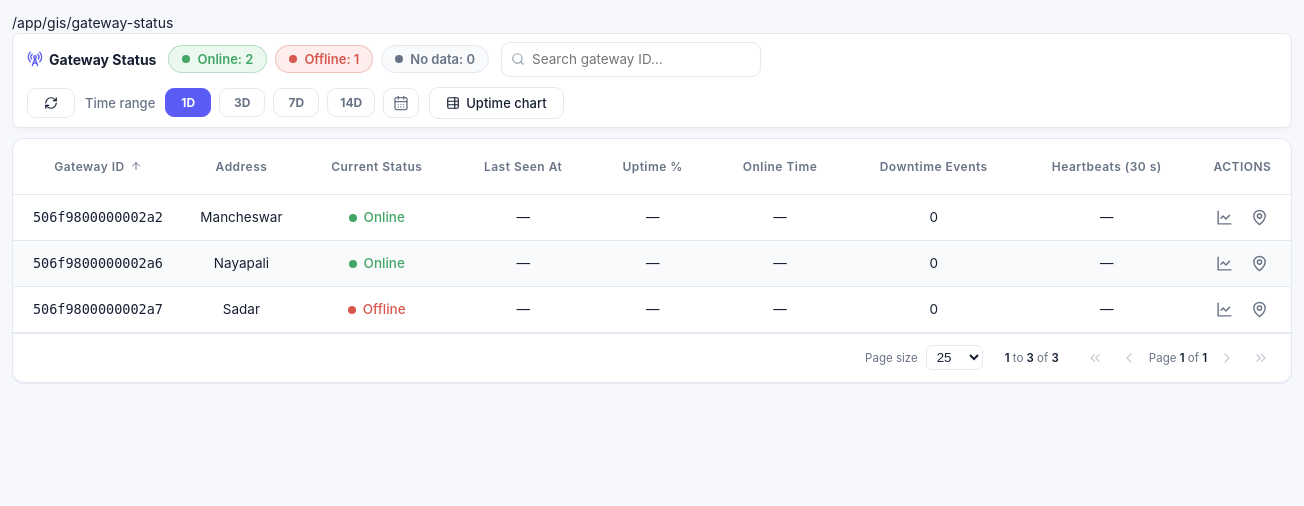
it: from the Gateway Status page › has an "Uptime chart" button next to the date range that opens the page (not mistaken for a gateway ID)
Click the button "Uptime chart".
click(496, 103)  # box x1=429 y1=87 x2=564 y2=119
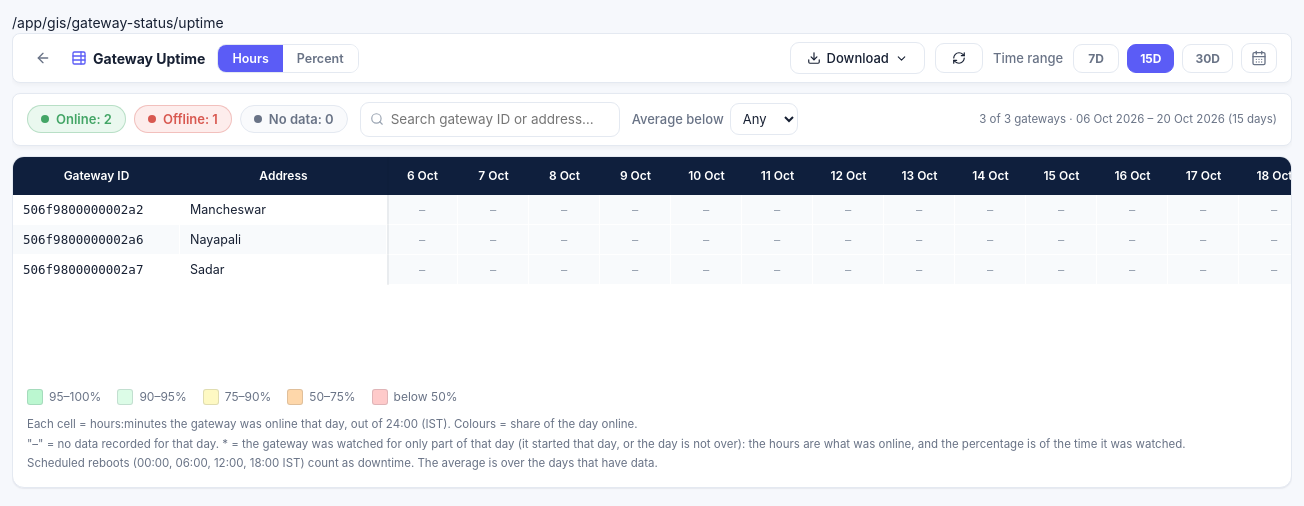
Expected: the text with test id "where" reads "/app/gis/gateway-status/uptime", x1=12 y1=14 x2=224 y2=31
Expected: the text "Gateway Uptime" is shown, x1=71 y1=48 x2=205 y2=68
